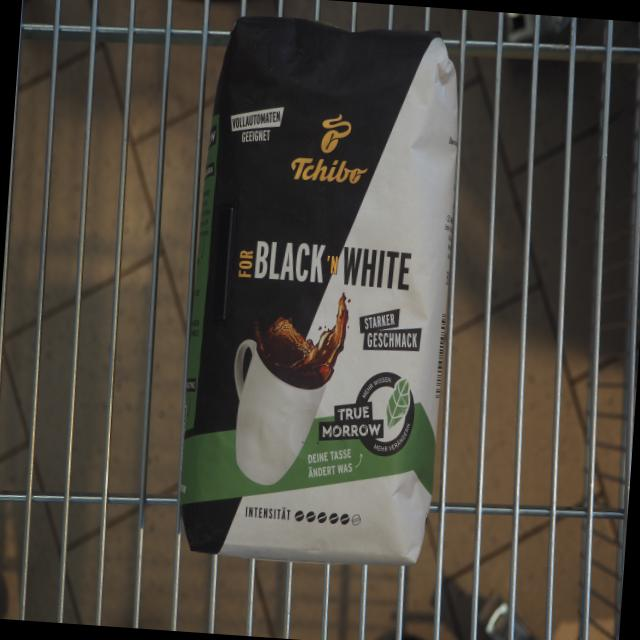BW Bohne: (168, 8, 469, 574)
